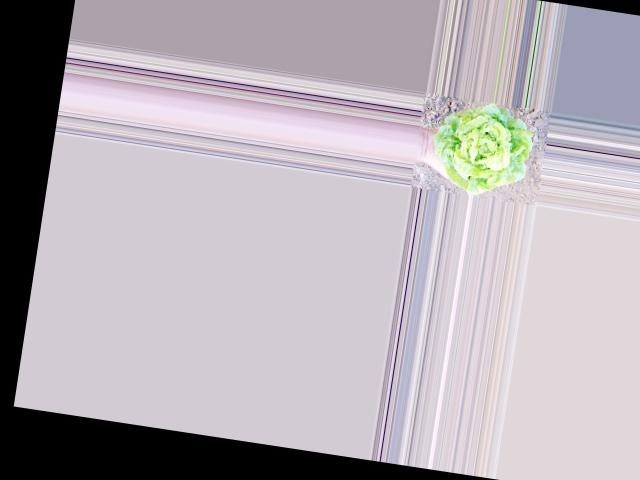lettuce: (433, 98, 539, 199)
